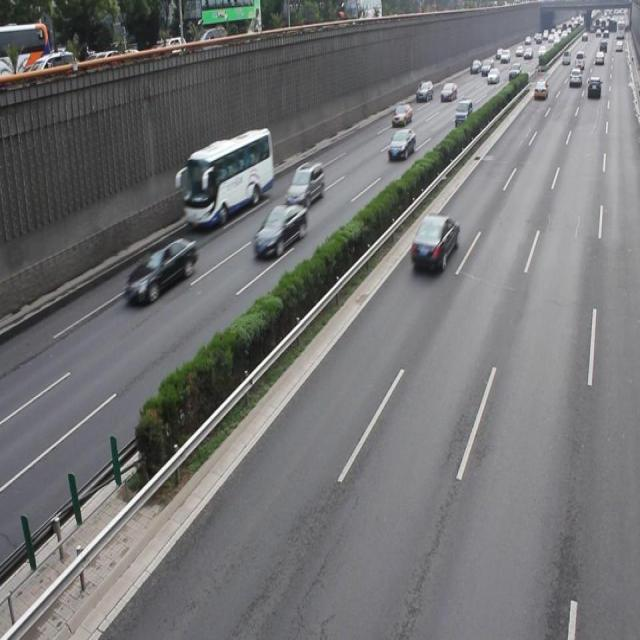car: (124, 235, 197, 304), (252, 200, 306, 258), (410, 213, 458, 270), (286, 160, 323, 206), (388, 127, 415, 159)
van: (182, 127, 271, 226)
